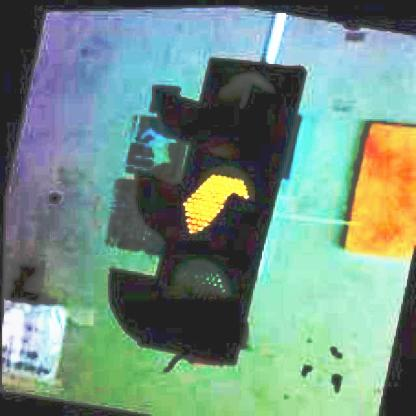Traffic Light -Yellow-: (95, 41, 305, 366)
